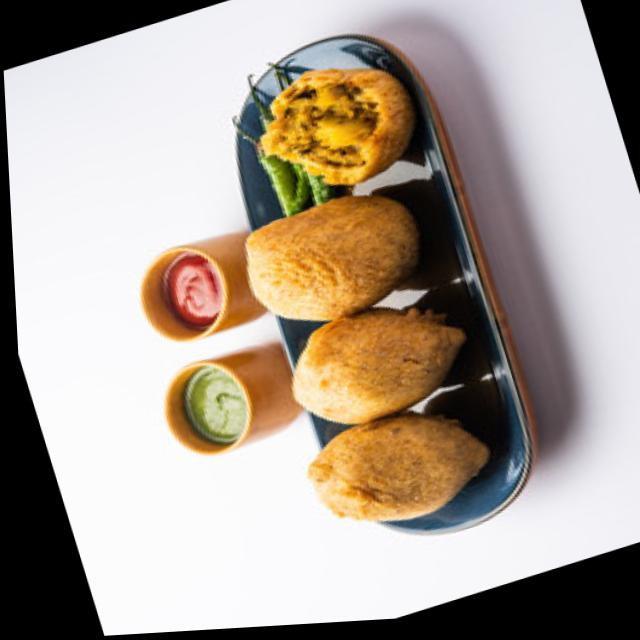BONDA: (244, 196, 486, 519), (259, 70, 410, 185)
GREEN CHUTNEY: (180, 366, 245, 444)
SAUCE: (165, 253, 220, 330)
